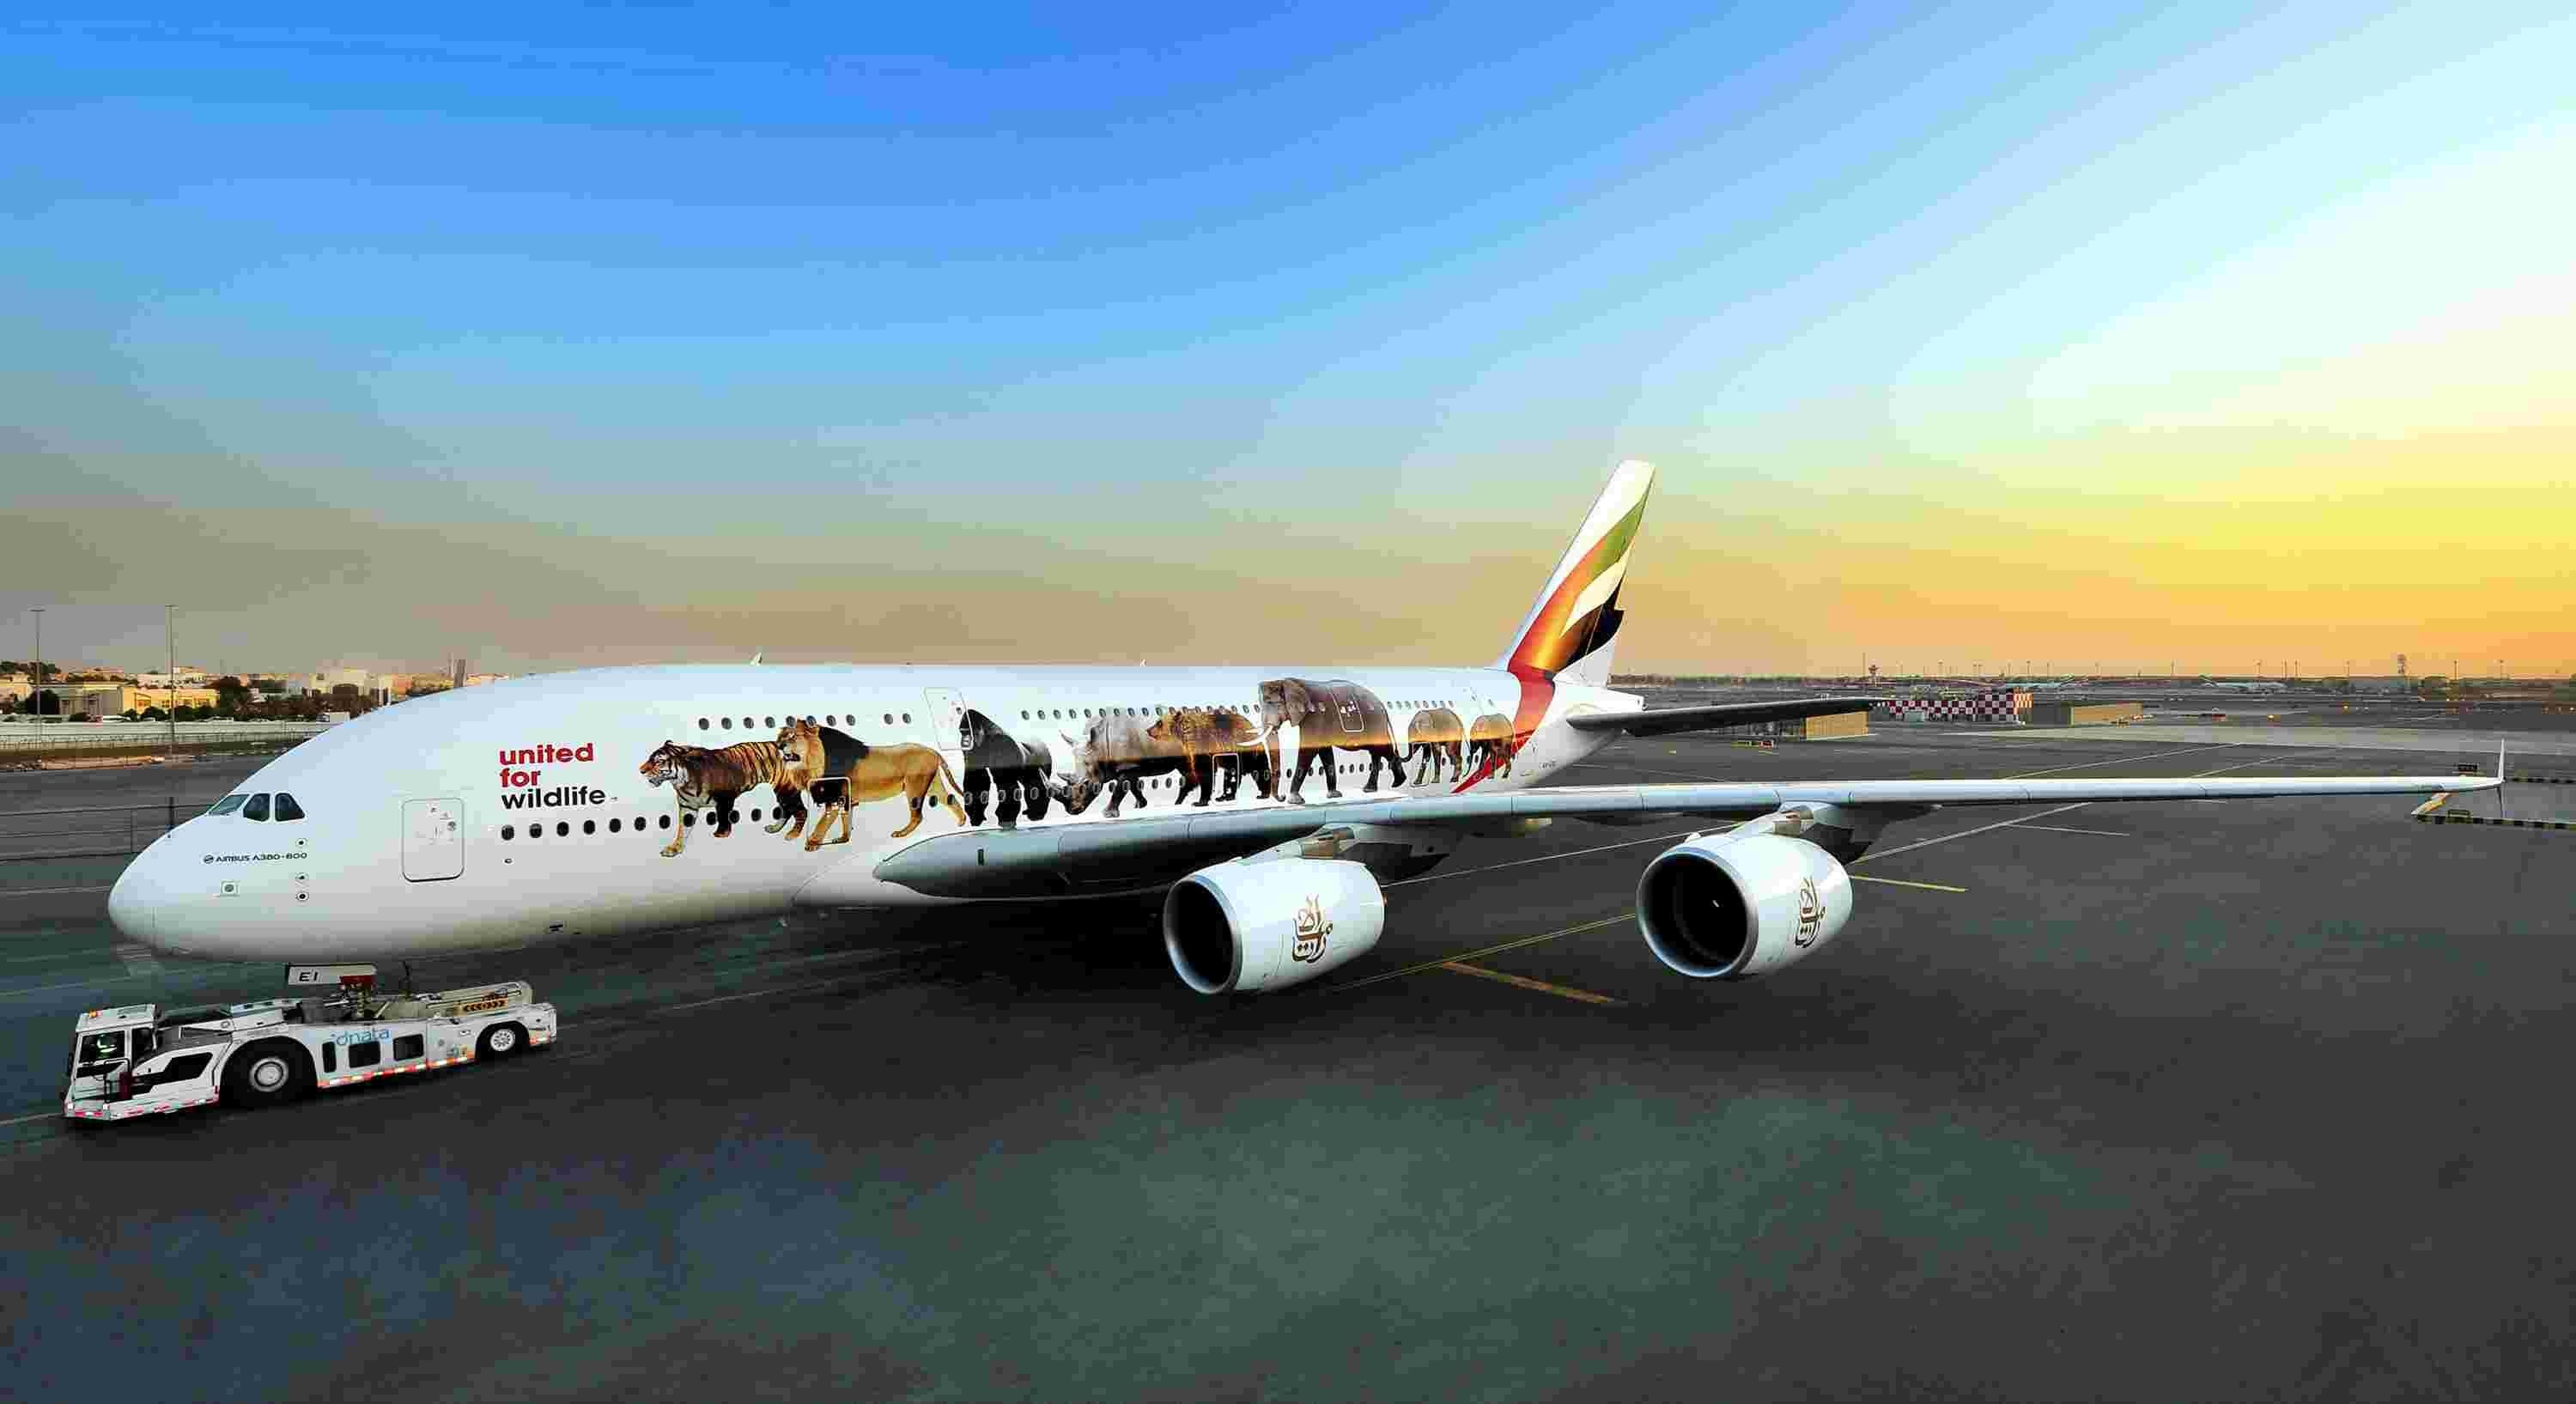airplane: (112, 469, 2509, 1001)
